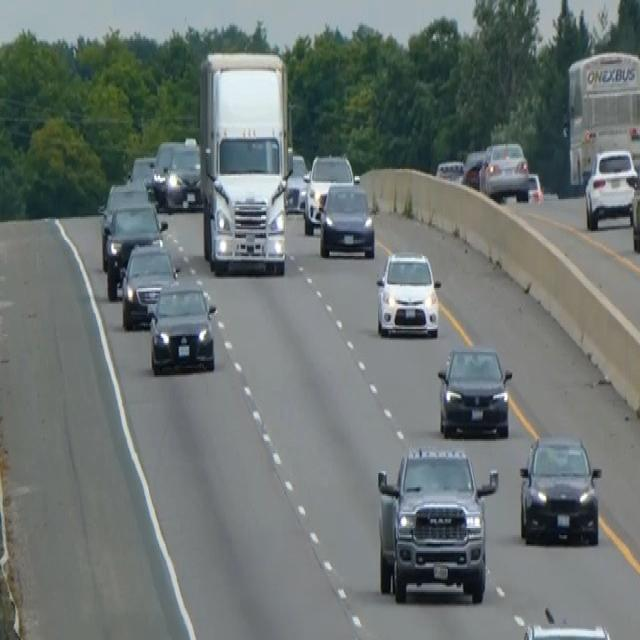car: (518, 432, 602, 546), (436, 343, 513, 439), (102, 199, 167, 299), (148, 281, 217, 375), (375, 249, 441, 338), (120, 240, 179, 329), (98, 178, 150, 266), (583, 146, 638, 229), (318, 180, 375, 260), (302, 151, 354, 233), (519, 604, 615, 638), (478, 139, 529, 201), (165, 137, 202, 211), (150, 138, 180, 202), (102, 178, 148, 212), (284, 151, 309, 213), (461, 148, 486, 188), (629, 160, 639, 254), (129, 153, 156, 187), (435, 157, 464, 183)
jeep: (375, 442, 498, 604)
lorry: (197, 48, 291, 276)
